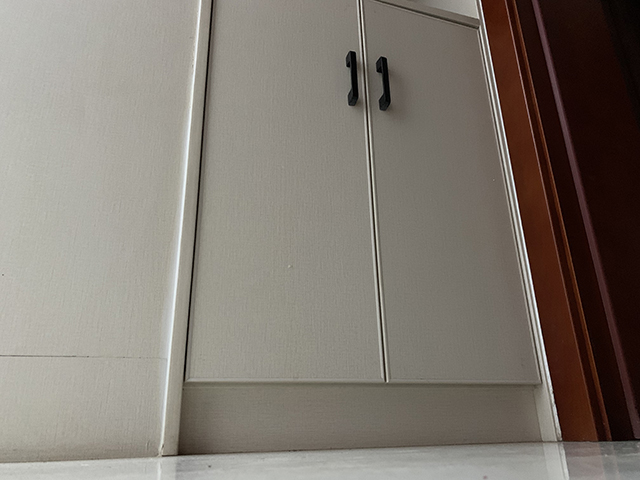cabinet: (155, 1, 567, 458)
